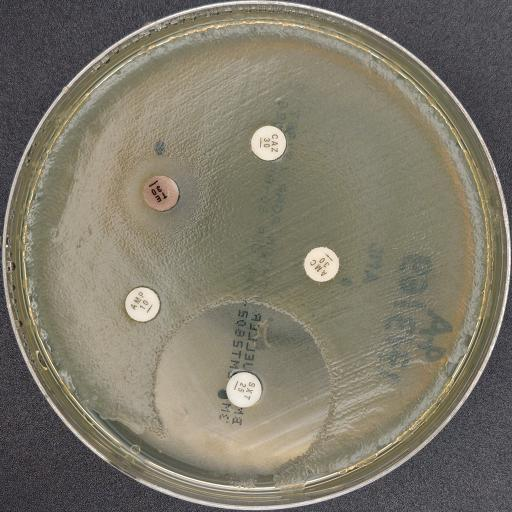disc: (302, 246, 340, 282), (250, 125, 286, 161), (143, 175, 179, 211), (125, 286, 161, 322), (226, 371, 262, 407)
